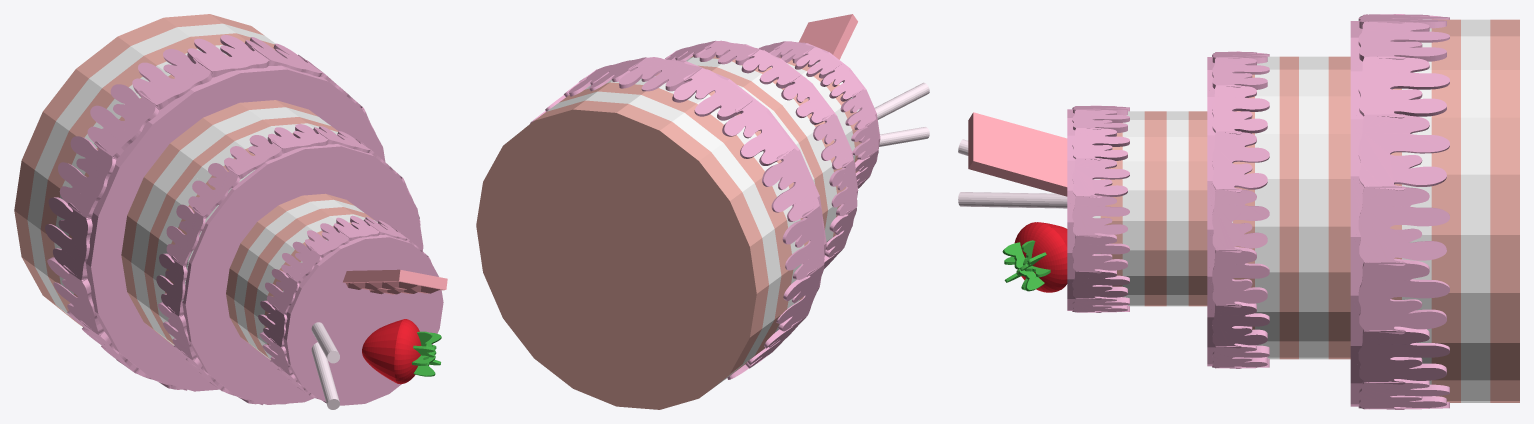
The model's file is tinker.obj.
3 views of the same model, side by side, from view 1: azimuth 30°, elevation 25°; view 2: azimuth 150°, elevation 25°; view 3: azimuth 270°, elevation 25° (orthographic). The views are drawn at different scales.
Parts seen in each view (by area): view 1: group_0_15708628, group_0_15708585, group_0_16448250, group_0_15277357, group_0_16755382, group_0_16772856, group_0_4634441; view 2: group_0_15708585, group_0_15708628, group_0_16448250, group_0_16755382, group_0_16772856; view 3: group_0_15708628, group_0_15708585, group_0_16448250, group_0_16755382, group_0_15277357, group_0_16772856, group_0_4634441.
Boxes of the visible parts, <box> form: group_0_15708628: <box>45,35,443,405</box>; group_0_15708585: <box>14,14,373,359</box>; group_0_16448250: <box>27,23,377,359</box>; group_0_15277357: <box>362,319,421,384</box>; group_0_16755382: <box>343,269,447,294</box>; group_0_16772856: <box>311,322,339,409</box>; group_0_4634441: <box>412,331,441,376</box>; group_0_15708585: <box>476,55,861,409</box>; group_0_15708628: <box>530,40,880,379</box>; group_0_16448250: <box>547,57,859,387</box>; group_0_16755382: <box>799,14,857,59</box>; group_0_16772856: <box>874,82,929,146</box>; group_0_15708628: <box>1067,14,1449,409</box>; group_0_15708585: <box>1100,19,1519,402</box>; group_0_16448250: <box>1092,19,1490,402</box>; group_0_16755382: <box>968,112,1067,196</box>; group_0_15277357: <box>1014,222,1067,292</box>; group_0_16772856: <box>958,139,1067,208</box>; group_0_4634441: <box>1002,240,1050,291</box>.
Bounding box in the file's own units: 107 × 107 × 153.
